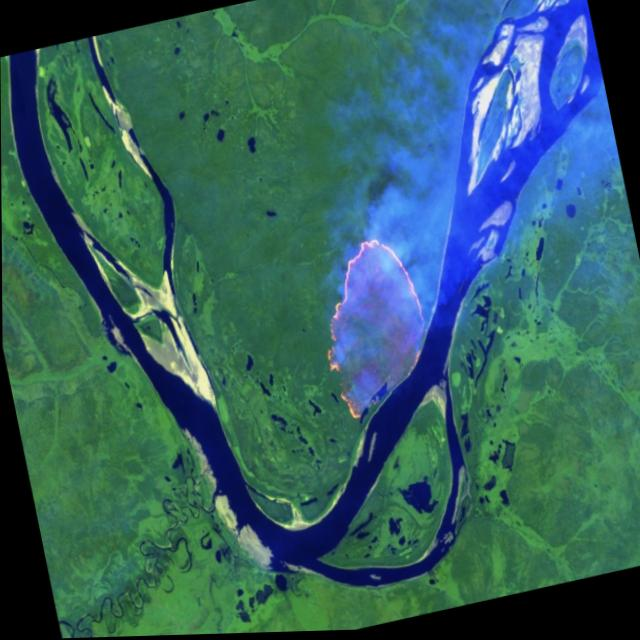fire: (299, 215, 444, 431)
